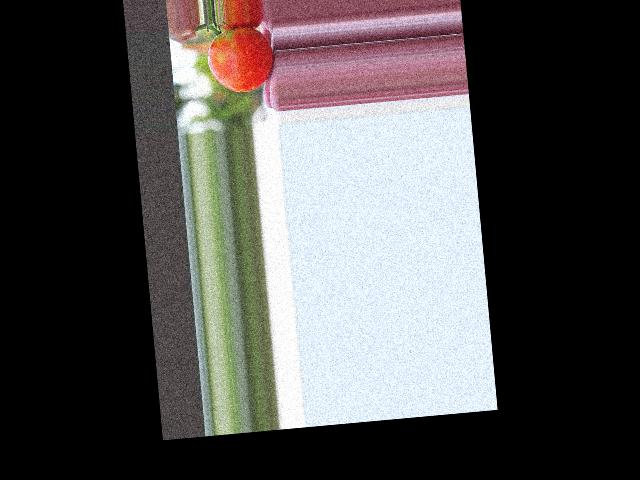tomato: (205, 25, 275, 95)
